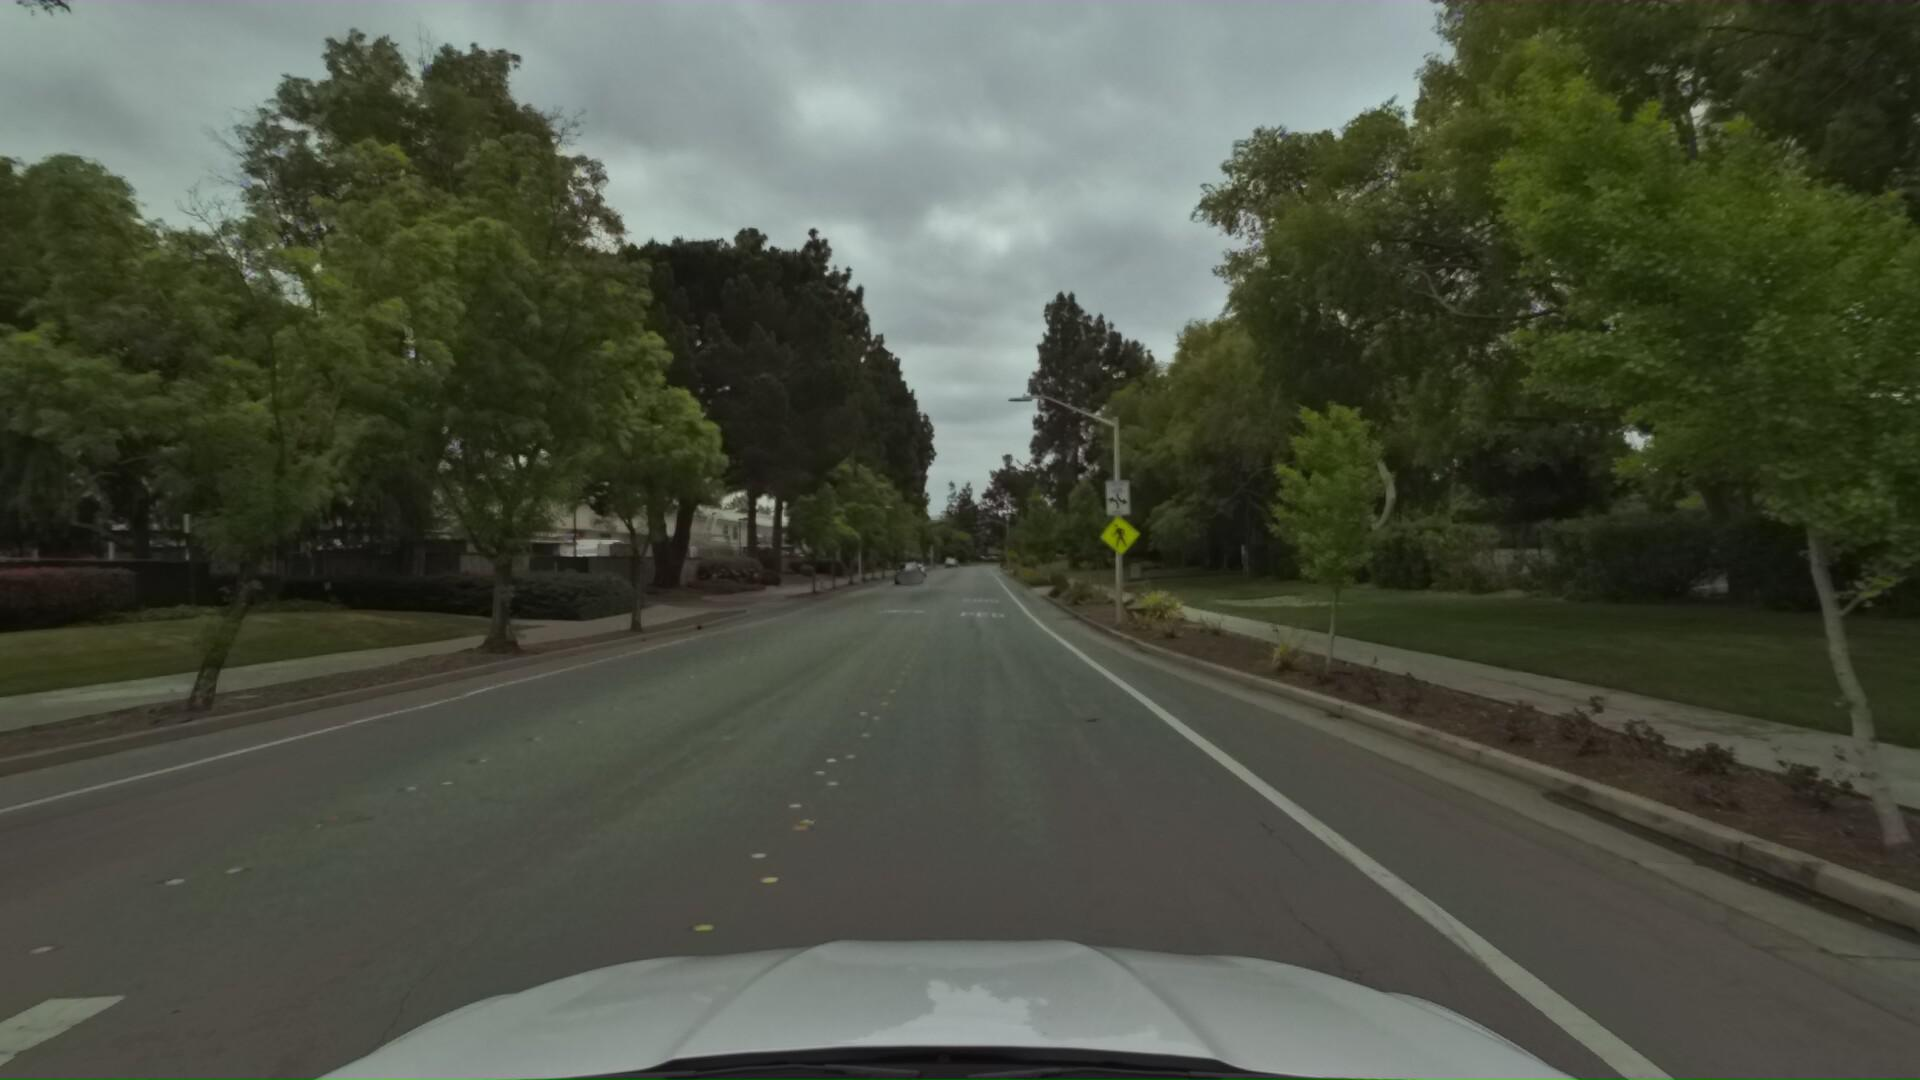car: (887, 560, 920, 587)
